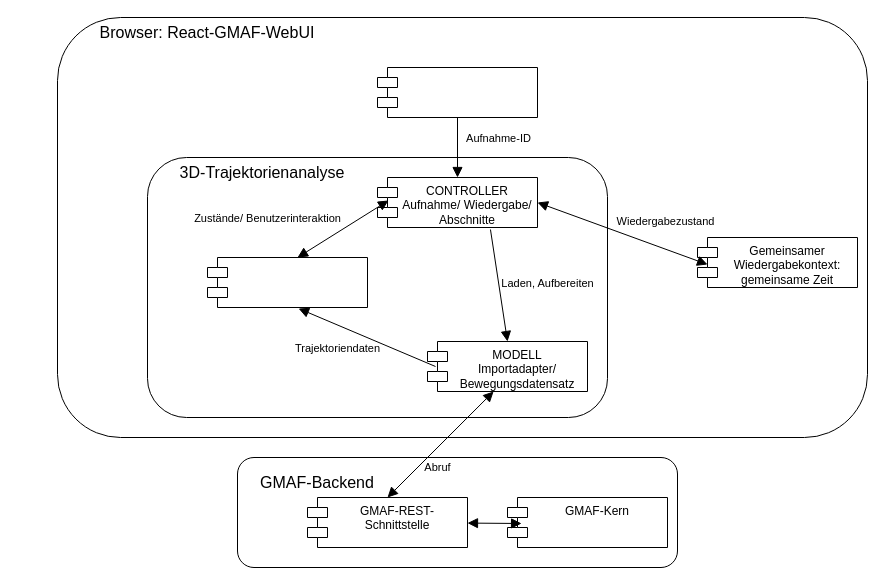
Some shapes in this 885 by 585 pixel diagram are drawn without their labels. Each missing label, with the centre of its shape:
"Bestehende MMIR-Ergebnispräsentation" goes at point (457, 92).
"VIEW 3D-Trajektorien und Video" goes at point (287, 282).
